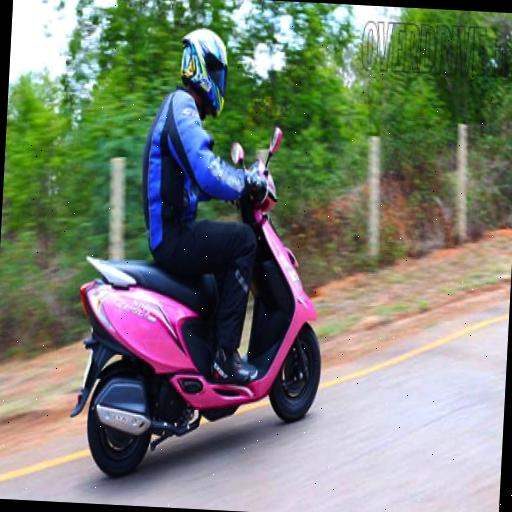helmet: (112, 11, 346, 428)
